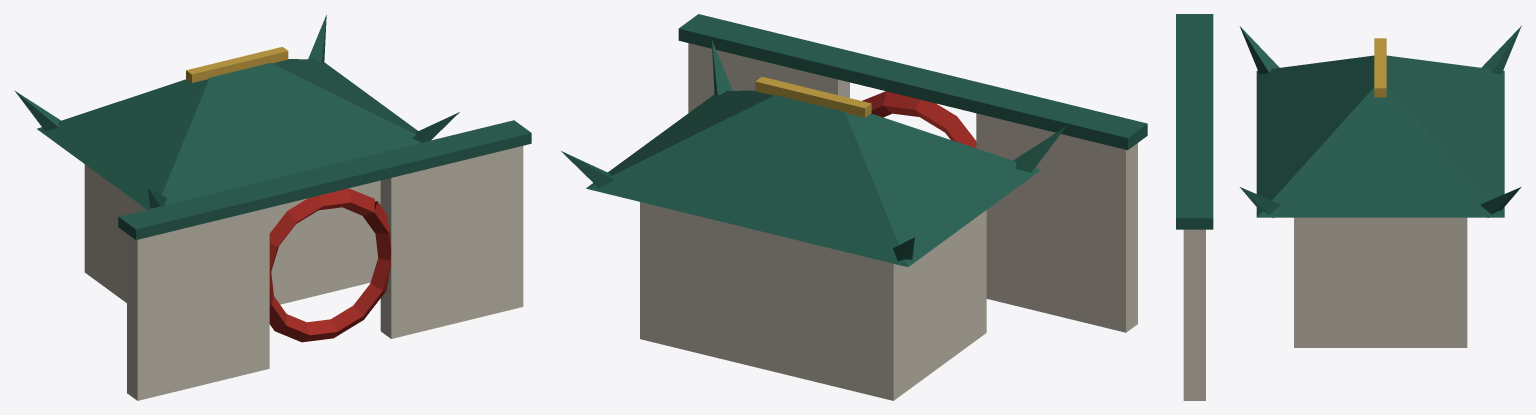
File: dragon_house_c.glb
3 views of the same model, side by side, from view 1: azimuth 30°, elevation 25°; view 2: azimuth 150°, elevation 25°; view 3: azimuth 270°, elevation 25° (orthographic). The views are drawn at different scales.
Visible parts, largest first — view 1: dragon_house_c; view 2: dragon_house_c; view 3: dragon_house_c.
Boxes of the visible parts, box(x1,y1,x2,y2) form: dragon_house_c: box(14, 15, 531, 400); dragon_house_c: box(561, 14, 1147, 400); dragon_house_c: box(1176, 14, 1521, 400).
Size of the model in its own units: 3.9 by 2.12 by 2.79.
